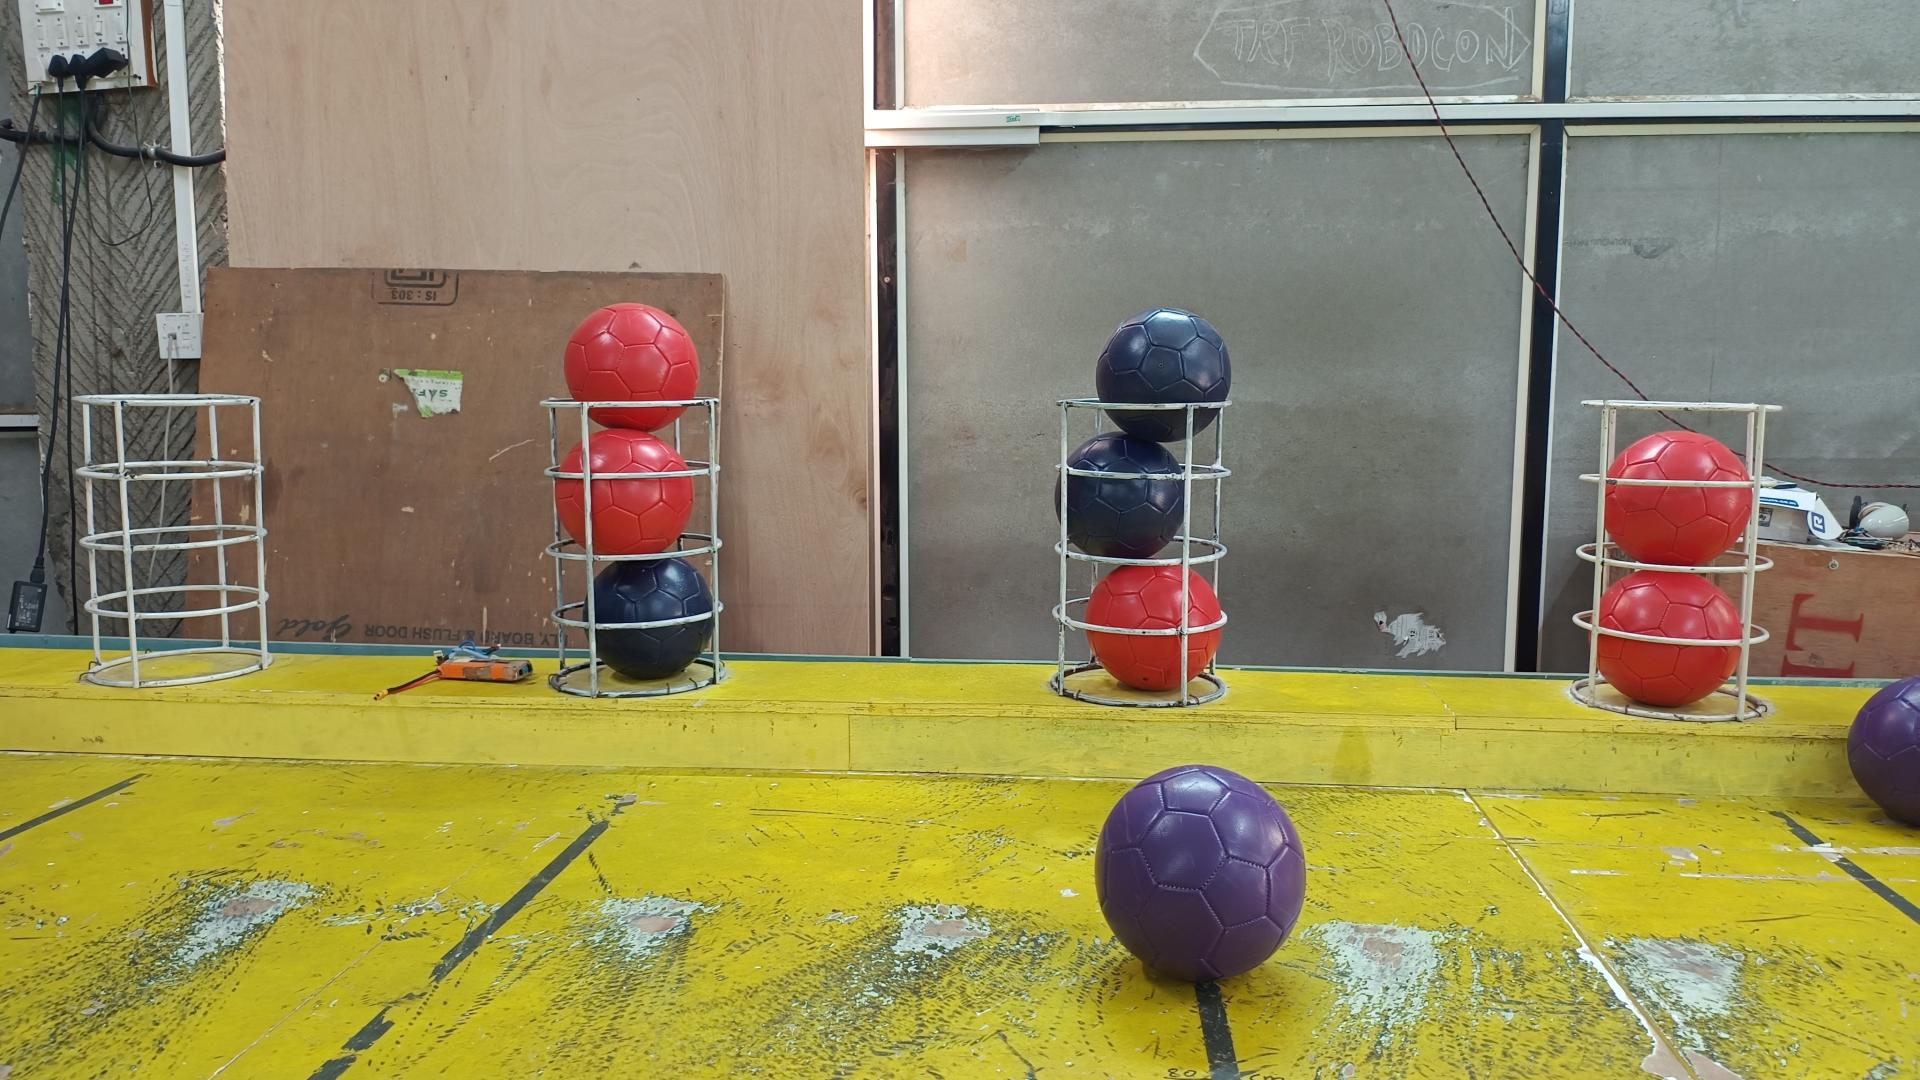dhoka: (1098, 307, 1233, 443), (1056, 431, 1184, 558), (579, 558, 713, 678)
laale: (1604, 430, 1750, 564), (1596, 571, 1742, 705), (554, 426, 696, 554), (1087, 563, 1225, 691), (564, 305, 700, 433)
